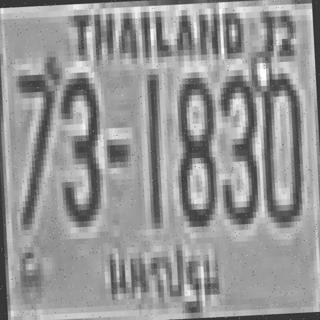N00: (257, 67, 303, 223)
N01: (141, 72, 164, 226)
N03: (55, 72, 104, 222), (215, 70, 261, 226)
N07: (12, 59, 64, 228)
N08: (173, 71, 218, 222)
P28: (102, 234, 226, 320)
